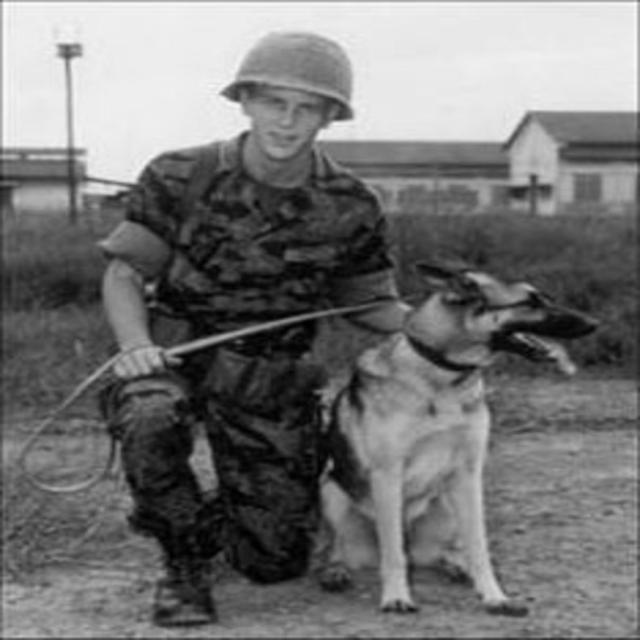Dog: (311, 264, 604, 622)
